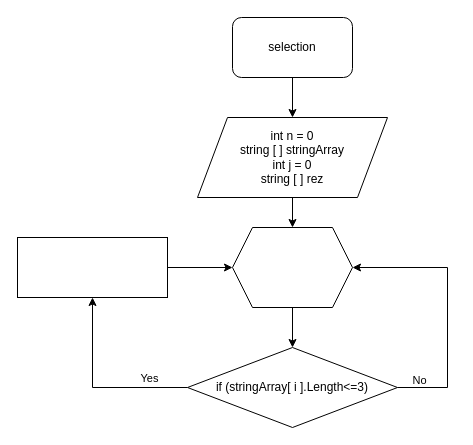
Some shapes in this 473 by 445 pixel diagram are drawn without their labels. Here are the shapes that lost their labels. From the top down, the box of each, then its label:
(16, 236, 168, 298): n++ rez [ j ] = stringArray [ i ] j++
(232, 226, 352, 308): for (int i = 0; i<stringArray.Length; i++)
